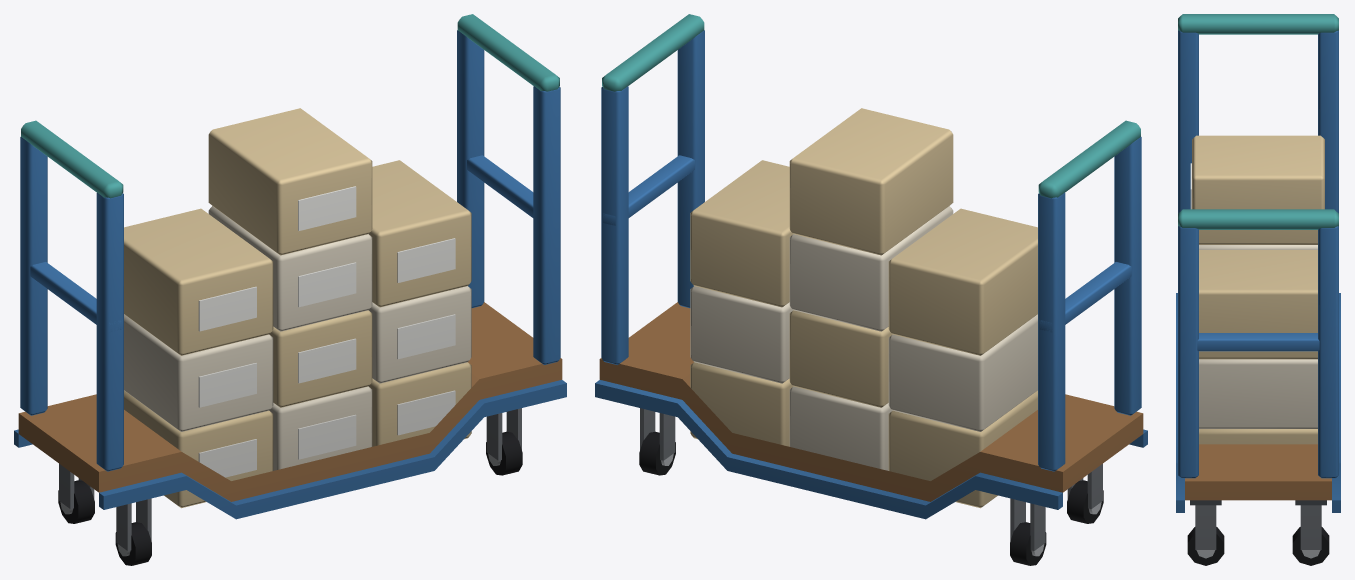
The model's file is UBoat_Cart_Loaded_01.glb.
3 renders of one model, left to right at view 1: azimuth 30°, elevation 25°; view 2: azimuth 150°, elevation 25°; view 3: azimuth 270°, elevation 25°, orthographic. The views are drawn at different scales.
Visible parts, largest first — view 1: SM_UBoat_Cart_Loaded_01; view 2: SM_UBoat_Cart_Loaded_01; view 3: SM_UBoat_Cart_Loaded_01.
Part boxes in pixels (box(x1,y1,x2,y2)): SM_UBoat_Cart_Loaded_01: box(14, 14, 566, 565); SM_UBoat_Cart_Loaded_01: box(595, 14, 1147, 565); SM_UBoat_Cart_Loaded_01: box(1176, 14, 1340, 565).
Bounding box in the file's own units: 1.4 × 1.15 × 0.47.
1 material, 1 textured.
